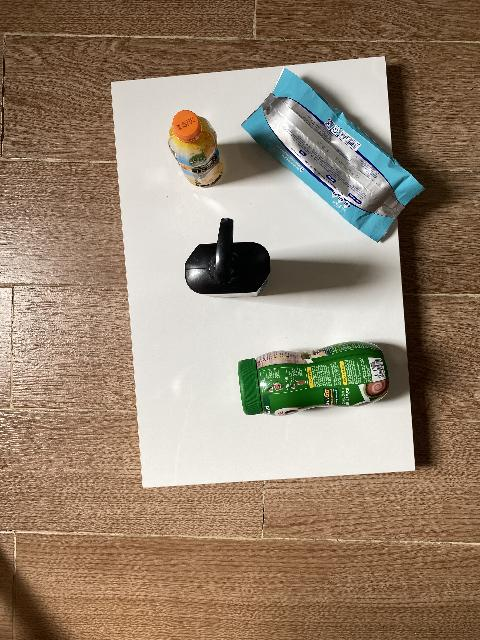Let-green_alcohol_wipes: (240, 66, 426, 243)
X-men: (184, 218, 271, 298)
milo: (238, 341, 389, 416)
teppy_orange_juice: (168, 110, 224, 187)
